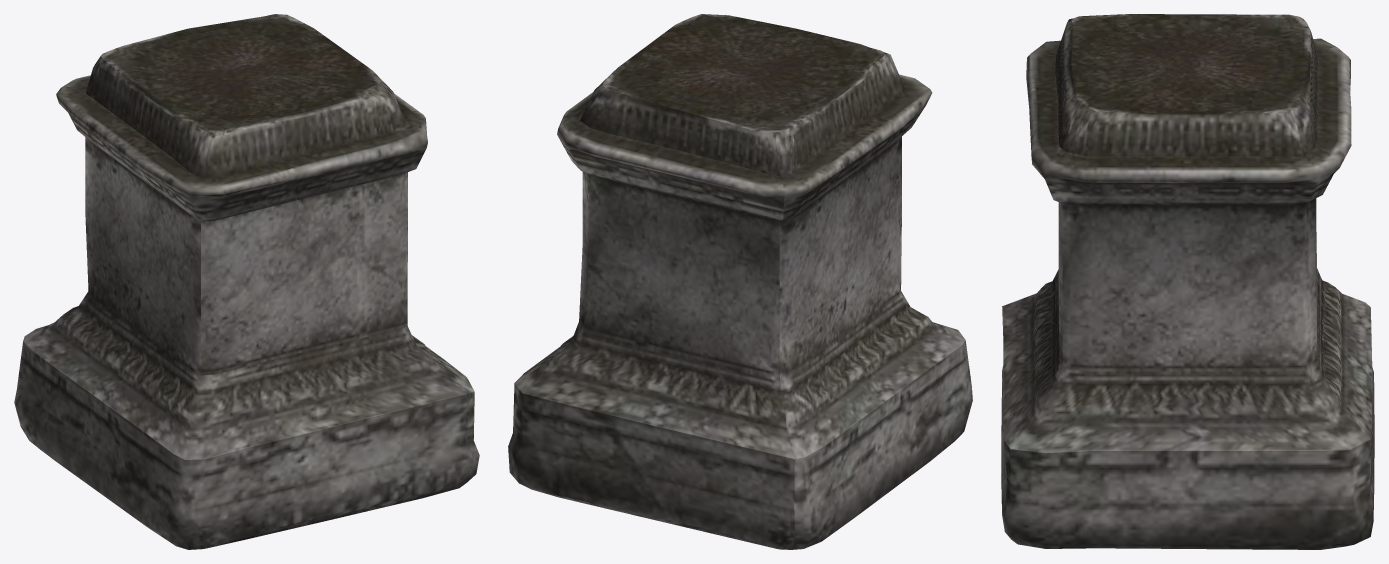
The model's file is eso_ss1_column6-transformed.glb.
The picture shows the model from 3 angles, left to right: view 1: azimuth 30°, elevation 25°; view 2: azimuth 150°, elevation 25°; view 3: azimuth 270°, elevation 25°; orthographic projection. The views are drawn at different scales.
Visible parts, largest first — view 1: default; view 2: default; view 3: default.
Boxes of the visible parts, left/top/right/bottom form: default: left=14, top=14, right=479, bottom=549; default: left=508, top=14, right=972, bottom=549; default: left=1001, top=14, right=1374, bottom=549.
Size of the model in its own units: 2.07 by 2.51 by 2.06.
1 material, 1 textured.
